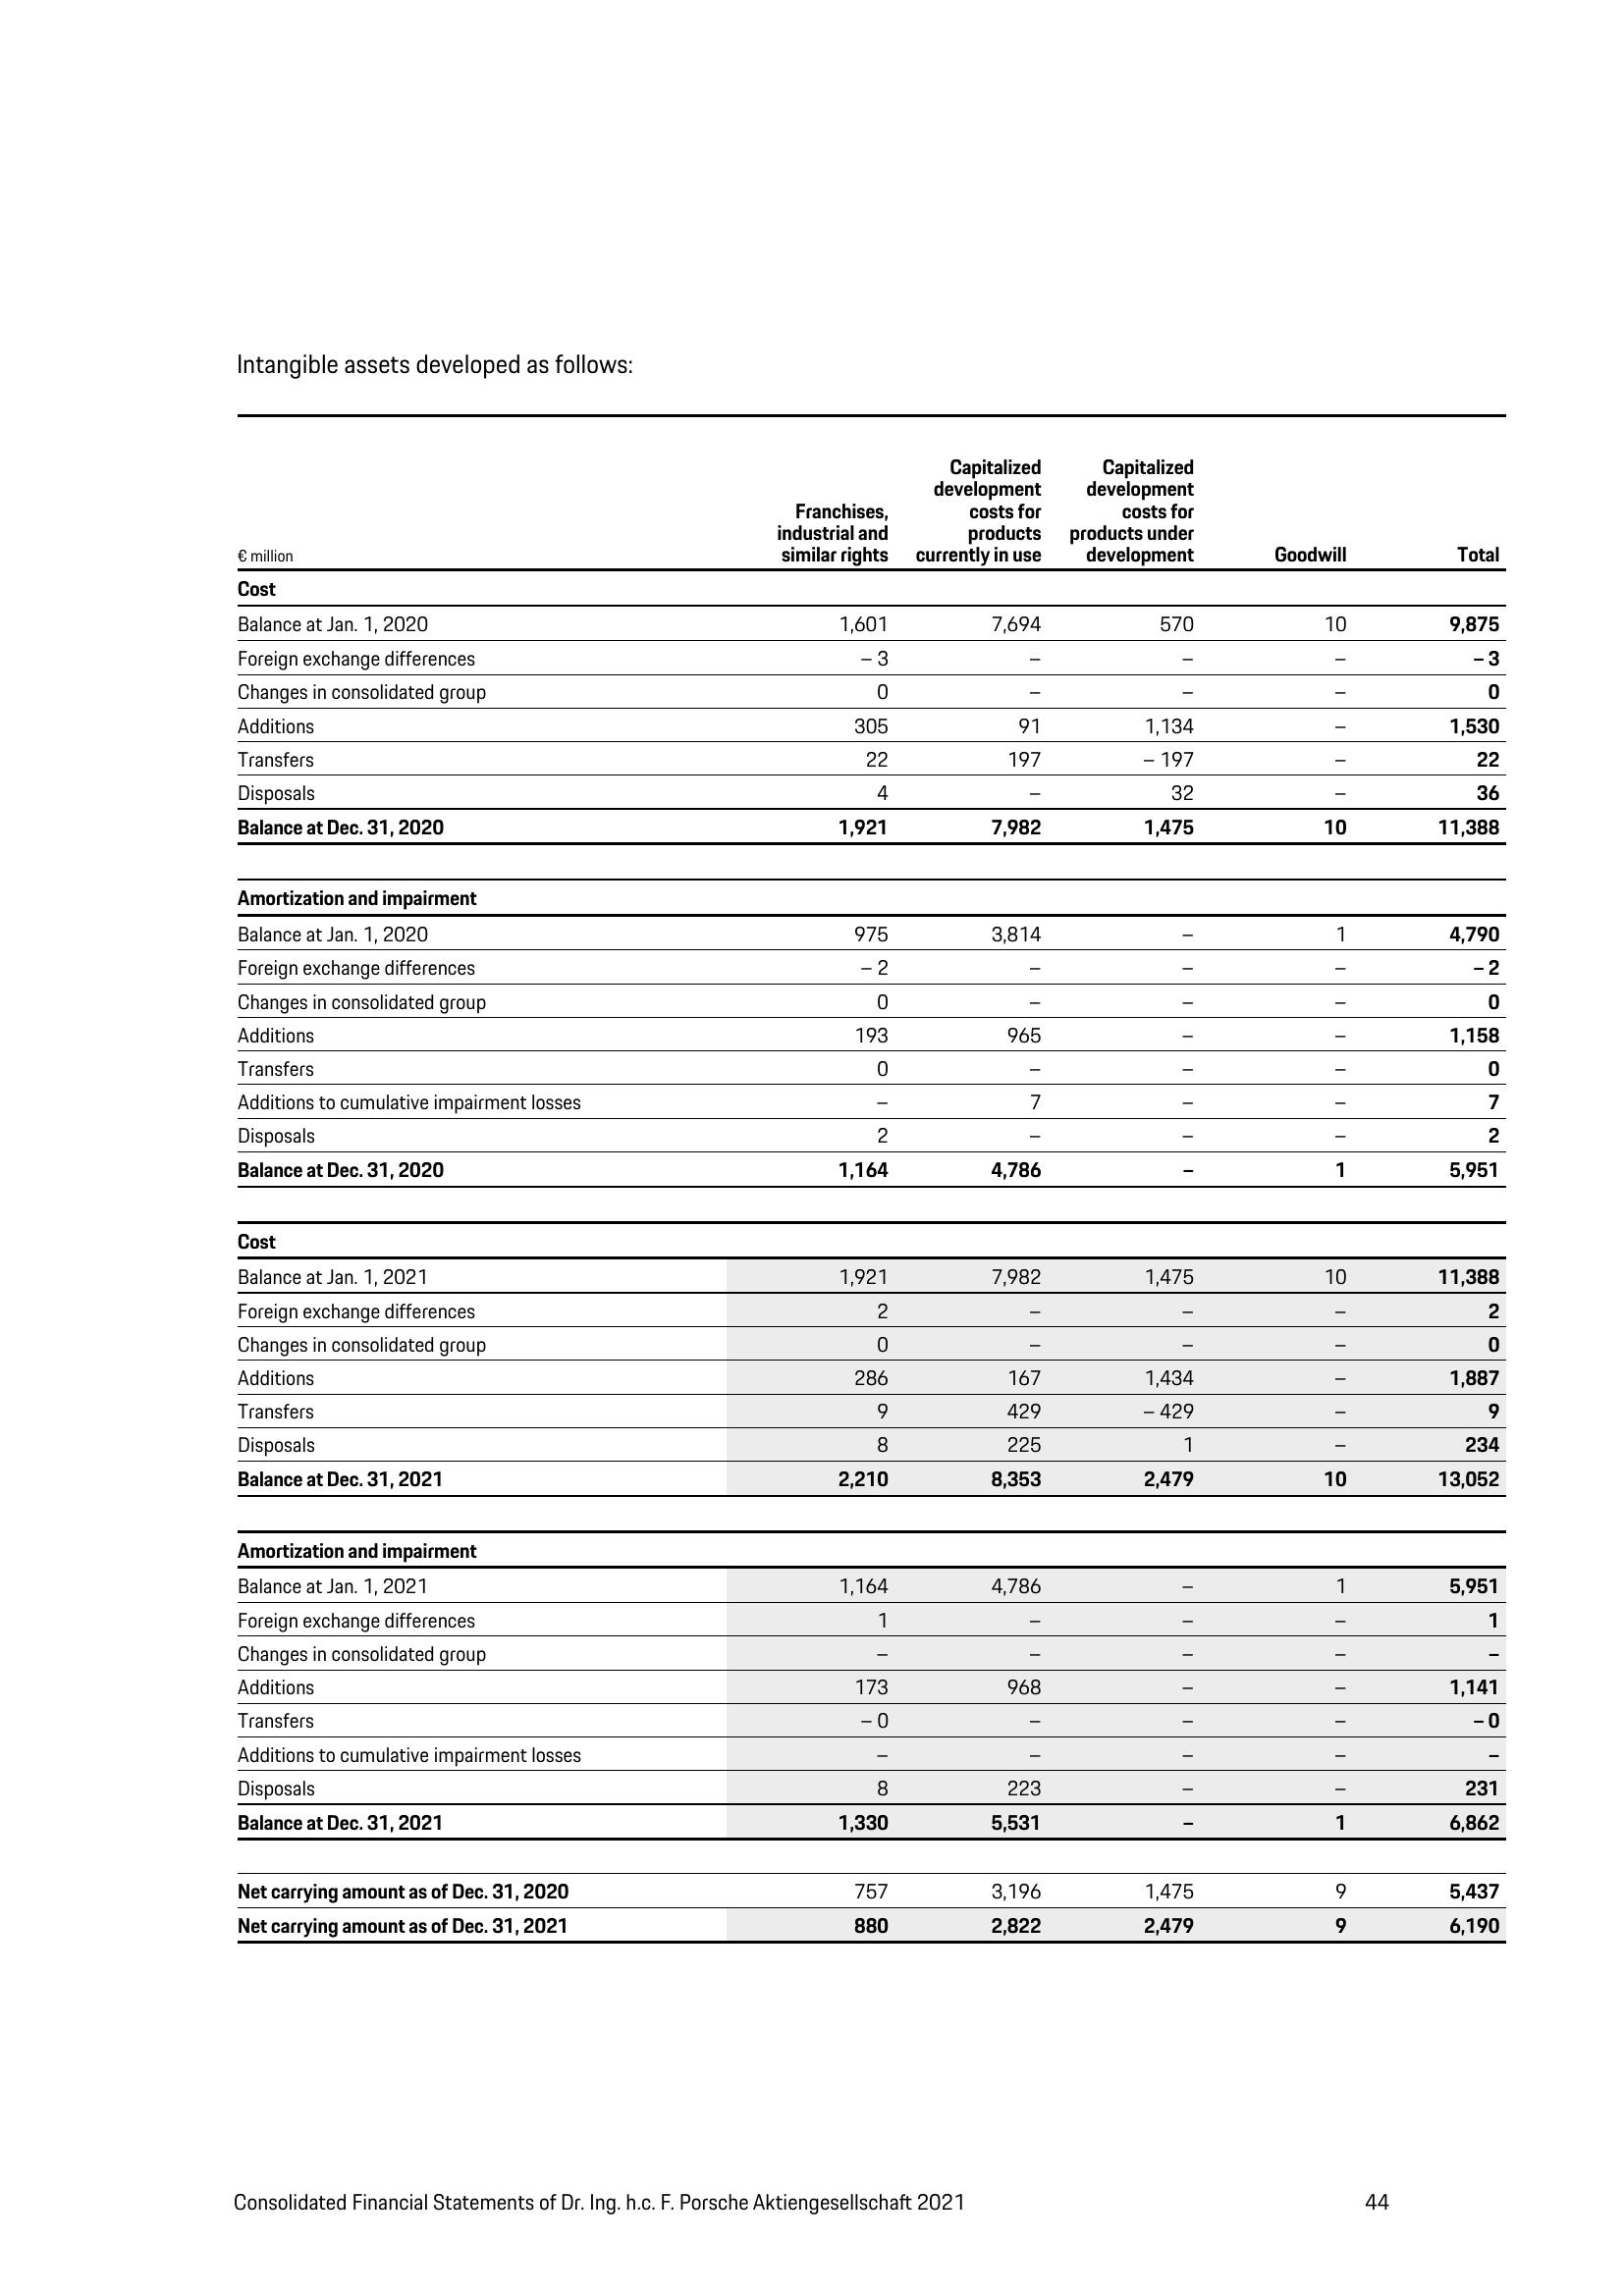Footer: (0, 2157, 1624, 2296)
Header: (0, 0, 1624, 206)
Table: (199, 408, 1541, 1960)
